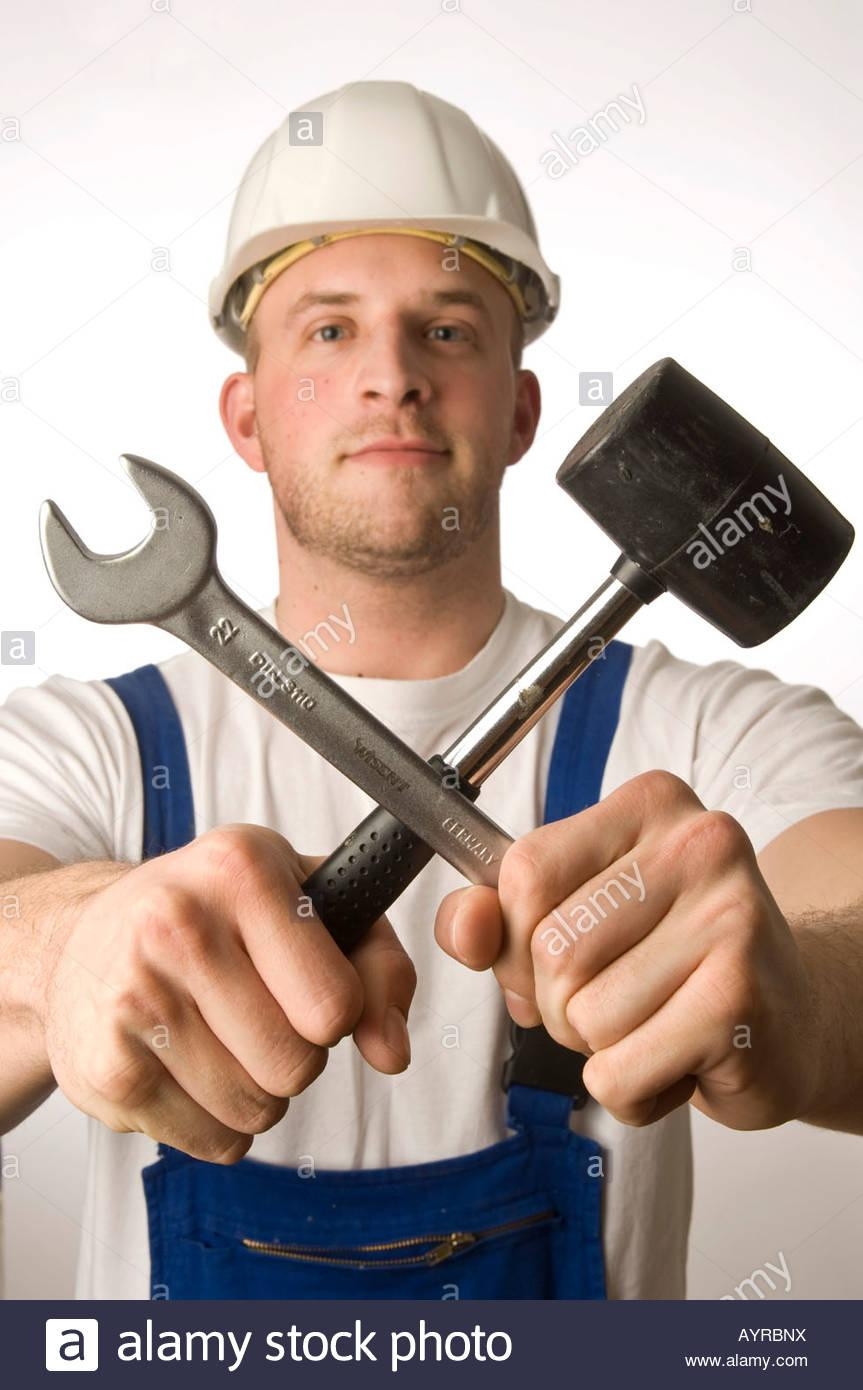helmet: (202, 75, 566, 358)
